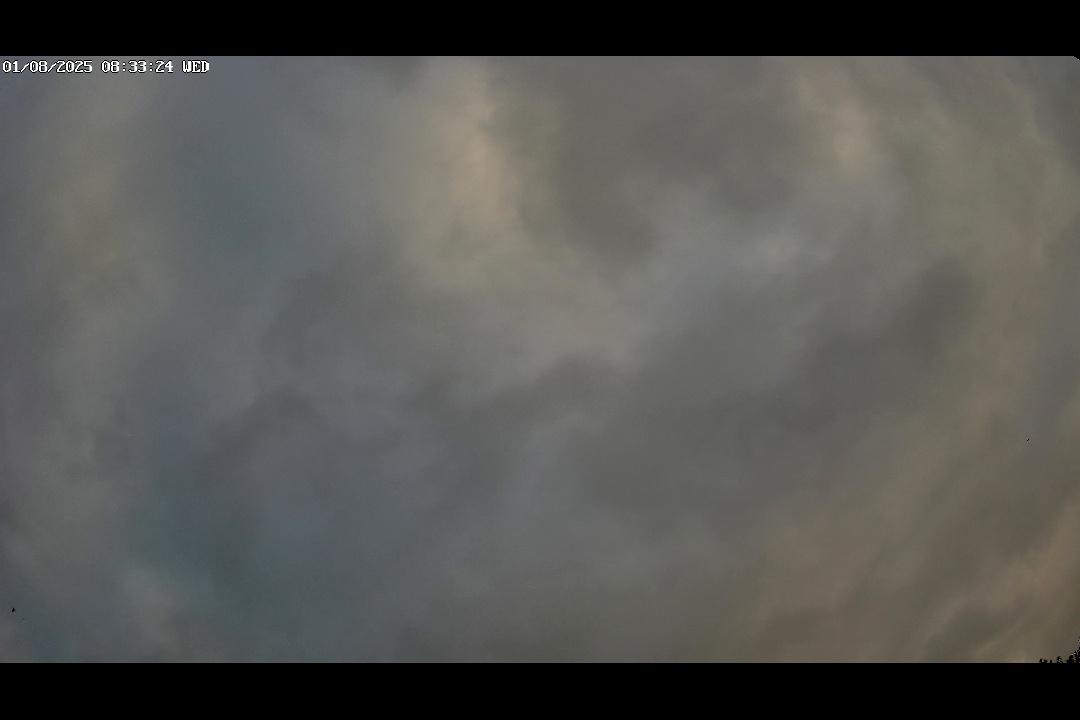WildLife: (0, 601, 29, 617), (1022, 435, 1033, 446)
